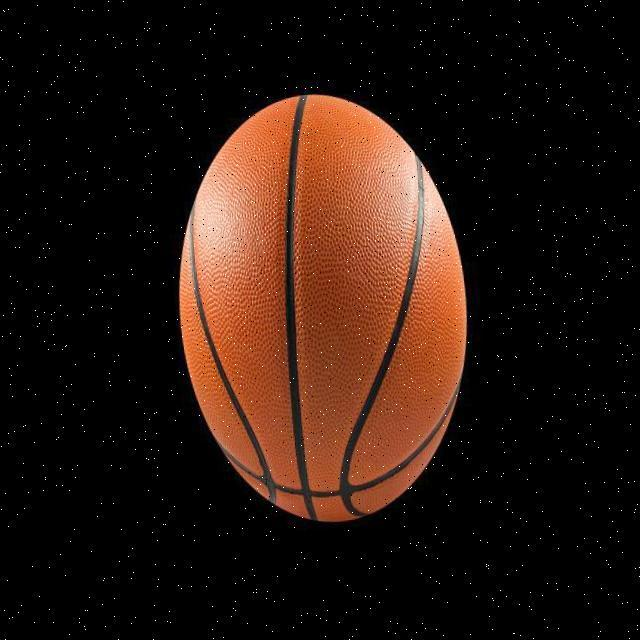ball: (164, 83, 482, 534)
